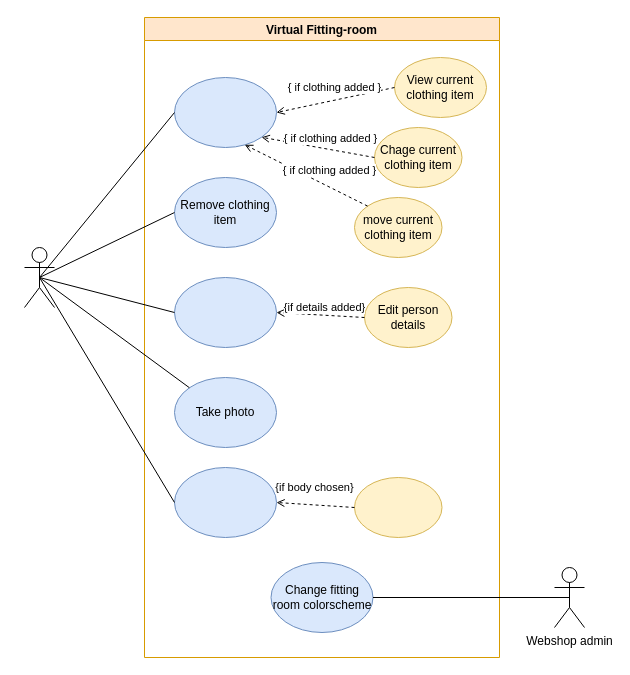
This 630x675 diagram has some shape labels left out. Here are the shapes that lost their labels. From the top down, the box of each, then its label:
(174, 76, 276, 148): Add clothing item
(24, 246, 54, 308): Shopper
(174, 276, 276, 348): Insert person details
(174, 466, 276, 538): Select body type
(354, 476, 442, 538): Edit body type
